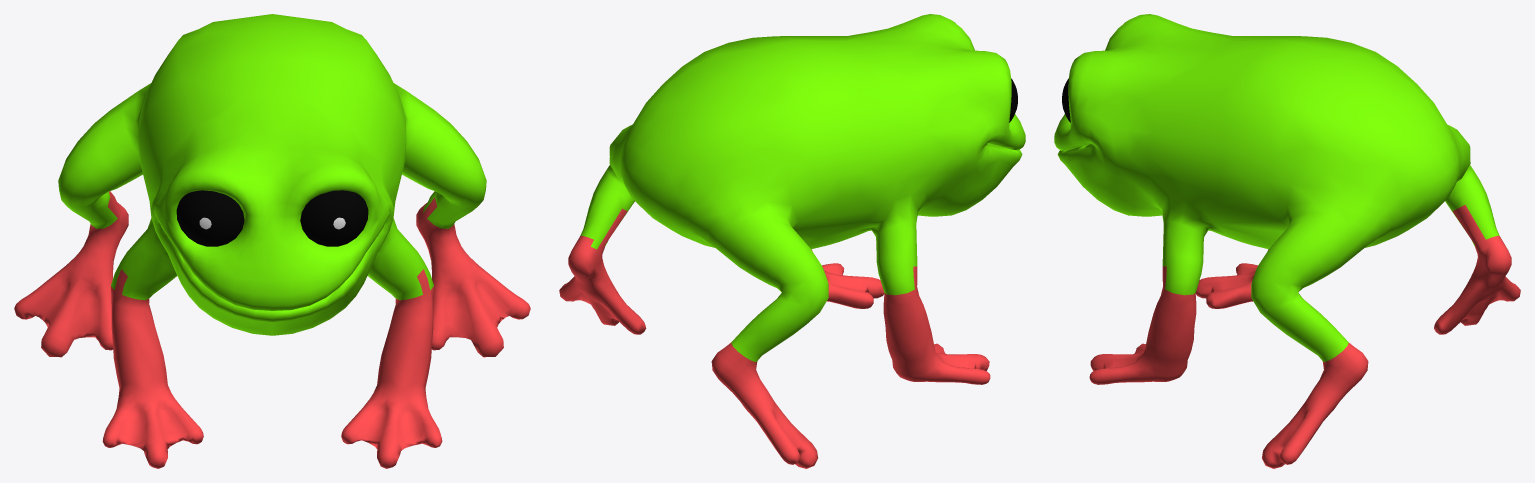
Rendered from Toy75.fbx.
3 views of the same model, side by side, from view 1: azimuth 30°, elevation 25°; view 2: azimuth 150°, elevation 25°; view 3: azimuth 270°, elevation 25° (orthographic). The views are drawn at different scales.
Parts seen in each view (by area): view 1: Toy75; view 2: Toy75; view 3: Toy75.
Part boxes in pixels (bbox=[...]): Toy75: bbox=[14, 14, 530, 468]; Toy75: bbox=[559, 14, 1025, 468]; Toy75: bbox=[1054, 14, 1520, 468].
Size of the model in its own units: 0.16 by 0.1216 by 0.1591.
